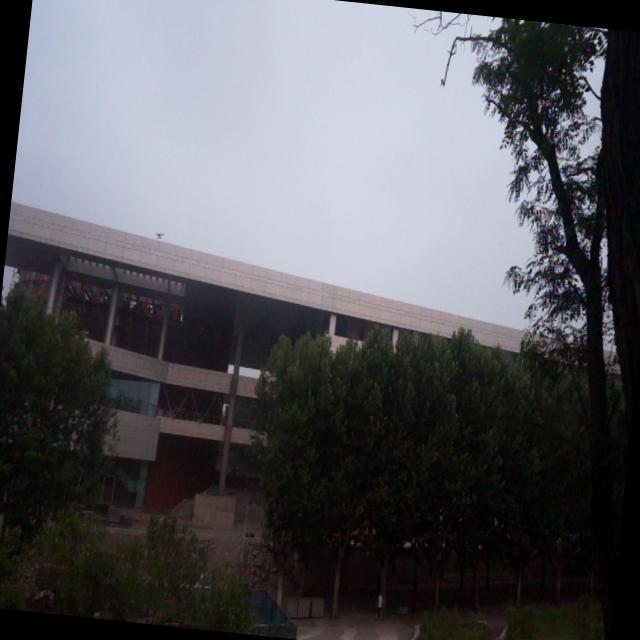drone: (154, 228, 166, 242)
